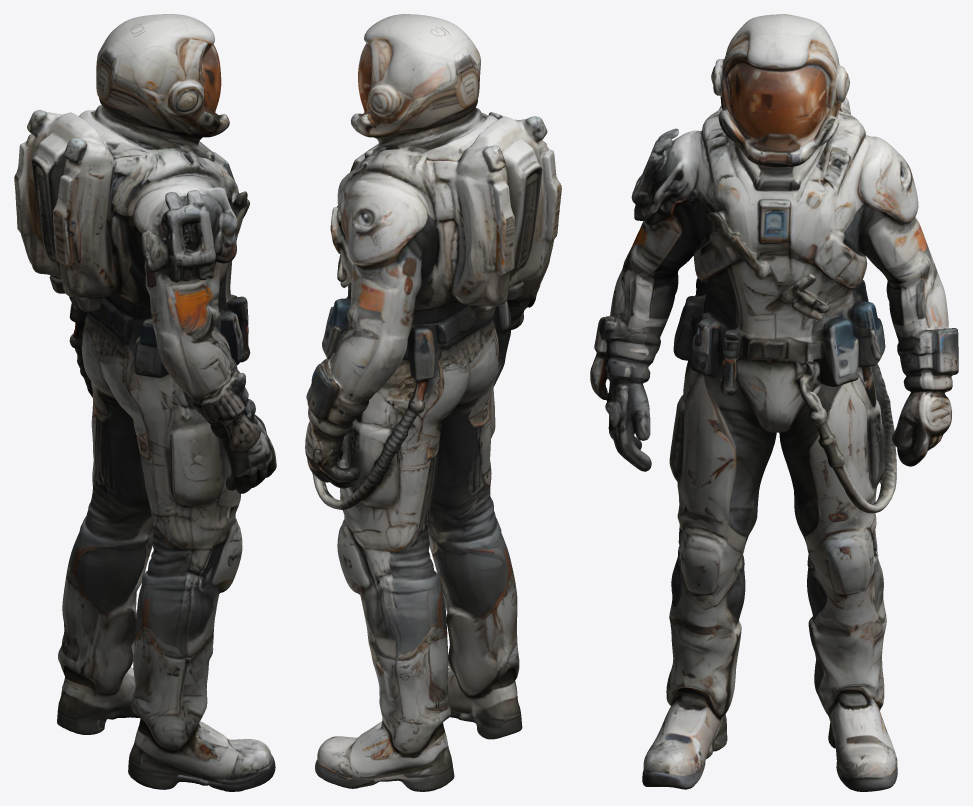
File: astronaut.glb
3 views of the same model, side by side, from view 1: azimuth 30°, elevation 25°; view 2: azimuth 150°, elevation 25°; view 3: azimuth 270°, elevation 25° (orthographic). The views are drawn at different scales.
Parts seen in each view (by area): view 1: tripo_node_b46f239b-dc61-4e2c-9960-6bba66cf6384; view 2: tripo_node_b46f239b-dc61-4e2c-9960-6bba66cf6384; view 3: tripo_node_b46f239b-dc61-4e2c-9960-6bba66cf6384.
Boxes of the visible parts, x1,y1,x2,y2 form: tripo_node_b46f239b-dc61-4e2c-9960-6bba66cf6384: [14, 14, 276, 791]; tripo_node_b46f239b-dc61-4e2c-9960-6bba66cf6384: [305, 14, 561, 791]; tripo_node_b46f239b-dc61-4e2c-9960-6bba66cf6384: [590, 14, 958, 791].
Size of the model in its own units: 0.286 by 1 by 0.446.
Materials: 1 (1 with a texture image).
